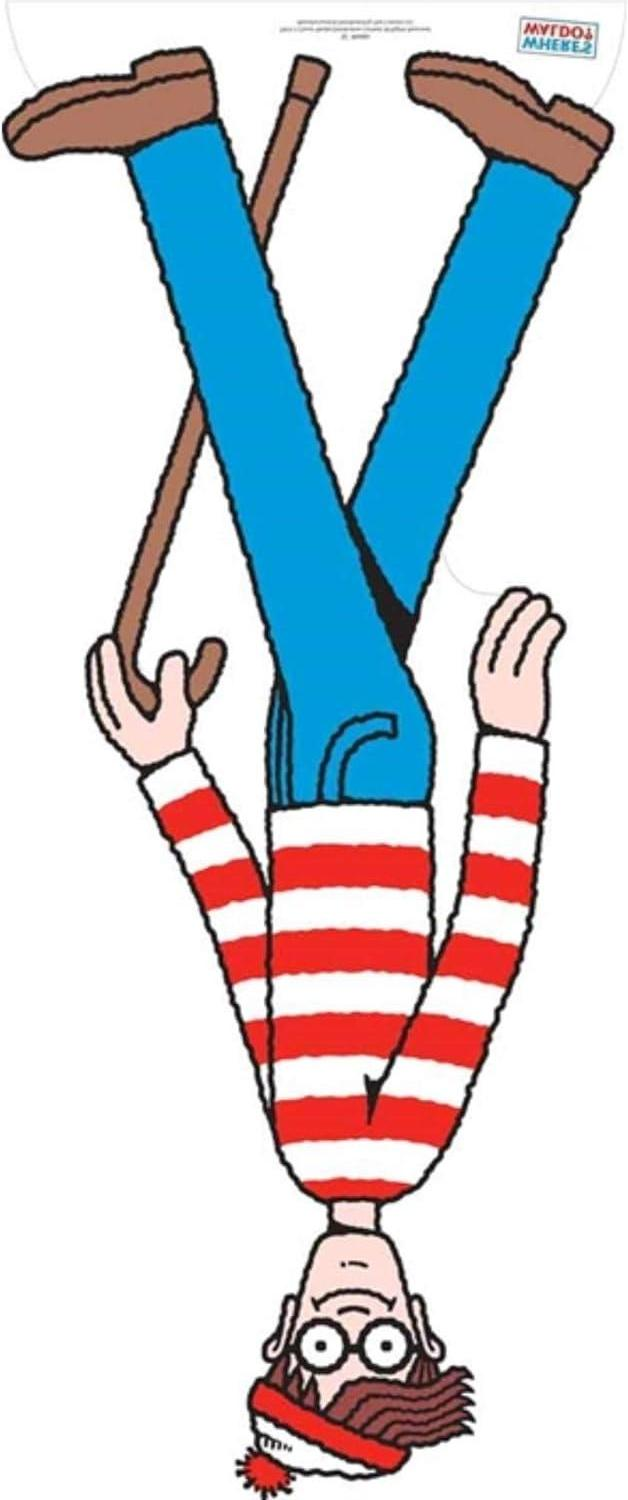waldos: (2, 47, 617, 1497)
